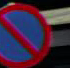No waiting: (1, 1, 54, 63)
